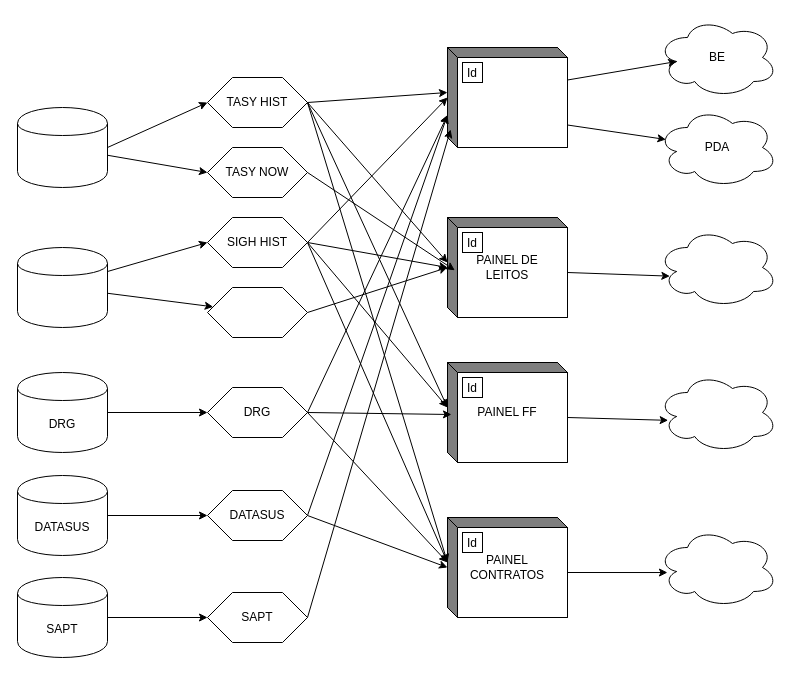
The diagram is 795 pixels wide and 675 high, and some of its shapes have lost their labels. The centre of each missing label's shape, as x and y in pixels:
"BOLETIM ESTRATÉGICO" goes at (507,97).
"FF" goes at (717,412).
"FHEPROD" goes at (62,147).
"PCD" goes at (717,567).
"PL" goes at (717,267).
"SIGH" goes at (62,287).
"SIGH NOW" goes at (257,312).
